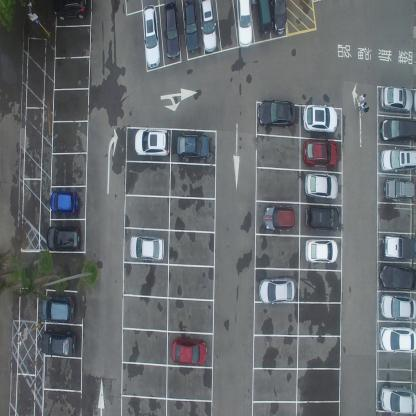car: (257, 98, 296, 131), (305, 199, 340, 233), (142, 3, 160, 69), (302, 137, 338, 169), (380, 383, 416, 415), (134, 127, 170, 157), (303, 104, 337, 135), (172, 336, 206, 367), (380, 293, 416, 322), (258, 276, 295, 304), (378, 325, 416, 352), (304, 170, 338, 200), (41, 328, 75, 358), (380, 263, 415, 292), (40, 294, 74, 323), (380, 233, 416, 260), (164, 0, 180, 60), (380, 116, 416, 142), (380, 147, 416, 173), (182, 0, 199, 55), (305, 235, 339, 262), (129, 235, 164, 261), (380, 86, 414, 112), (45, 225, 80, 250), (177, 135, 210, 161), (200, 0, 216, 53), (235, 0, 252, 49), (262, 206, 294, 231), (382, 178, 416, 201), (49, 190, 79, 216), (54, 0, 88, 21), (254, 0, 271, 36), (271, 0, 287, 37)
